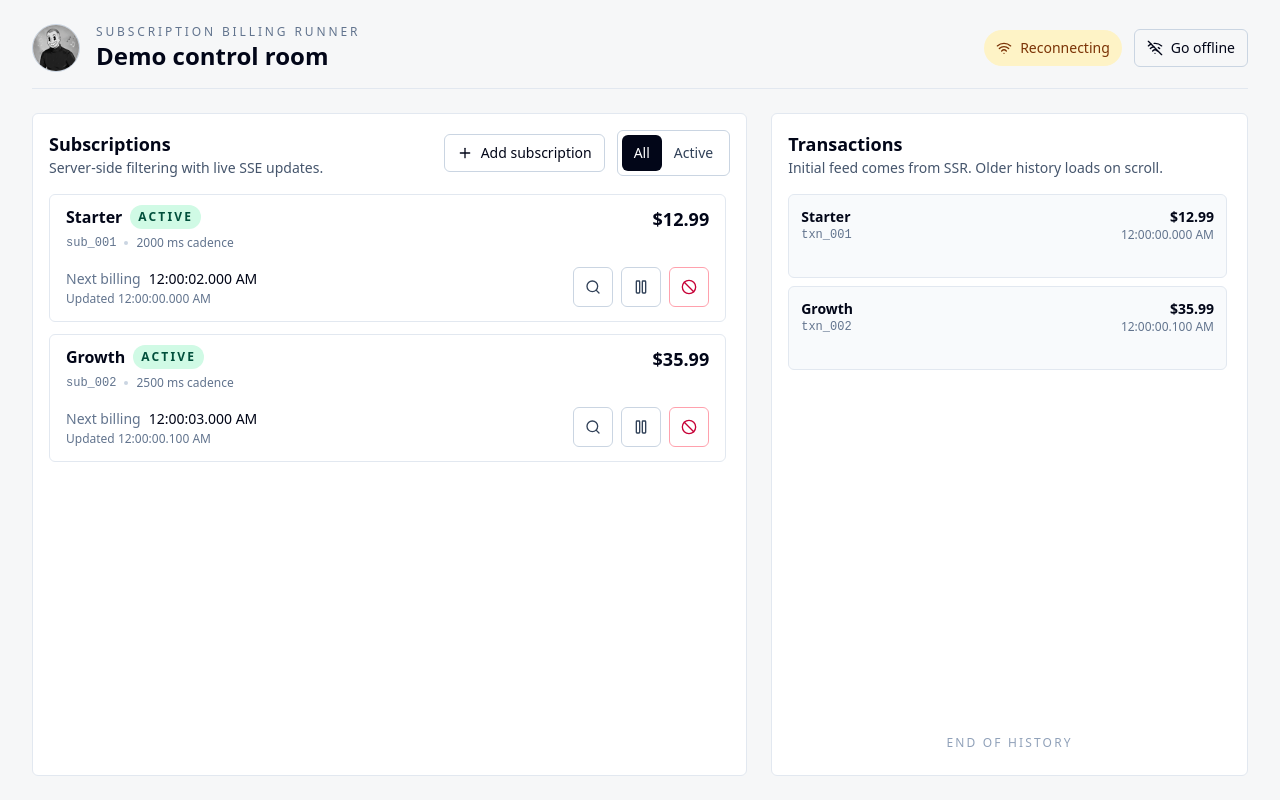
Dashboard › opens pause options in a modal
Click the button named "pause" at (641, 287), box top-left (621, 267), bottom-right (661, 307)
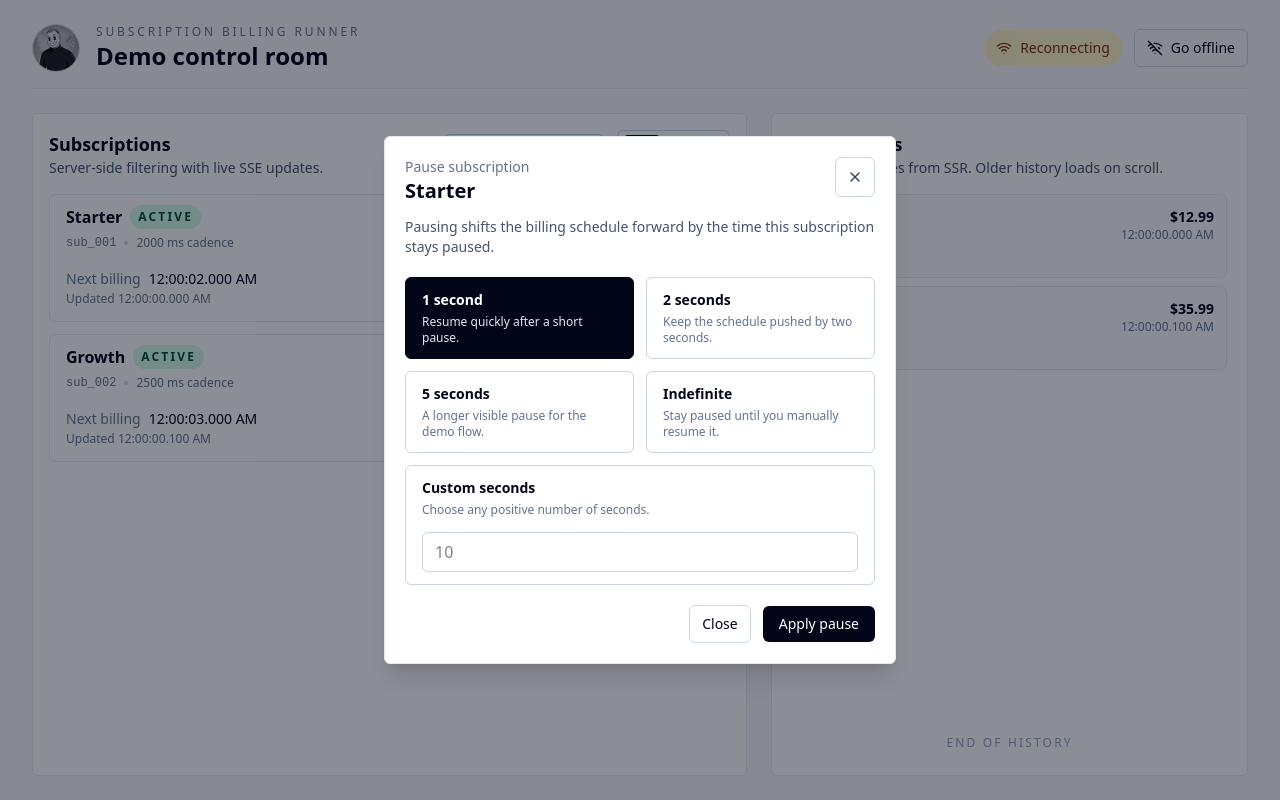
Expected: the dialog is shown, top-left (384, 136), bottom-right (896, 664)
Expected: the text "Custom seconds" is shown, top-left (422, 478), bottom-right (535, 497)
